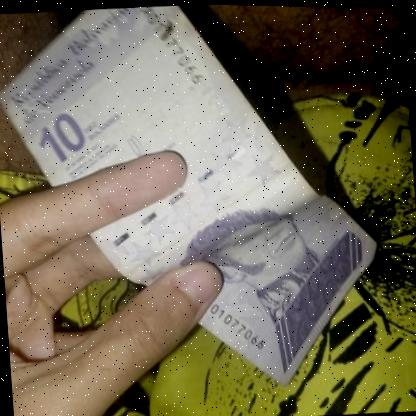ten-front-vef: (0, 0, 401, 415)
